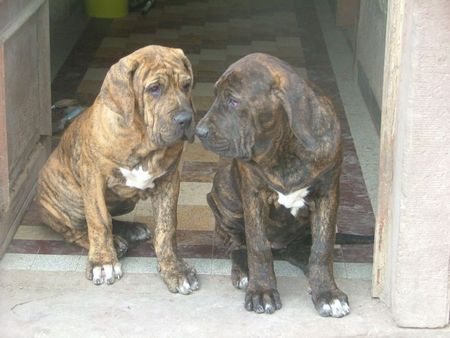fila_brasileiro: (194, 52, 351, 317), (36, 42, 200, 295)
